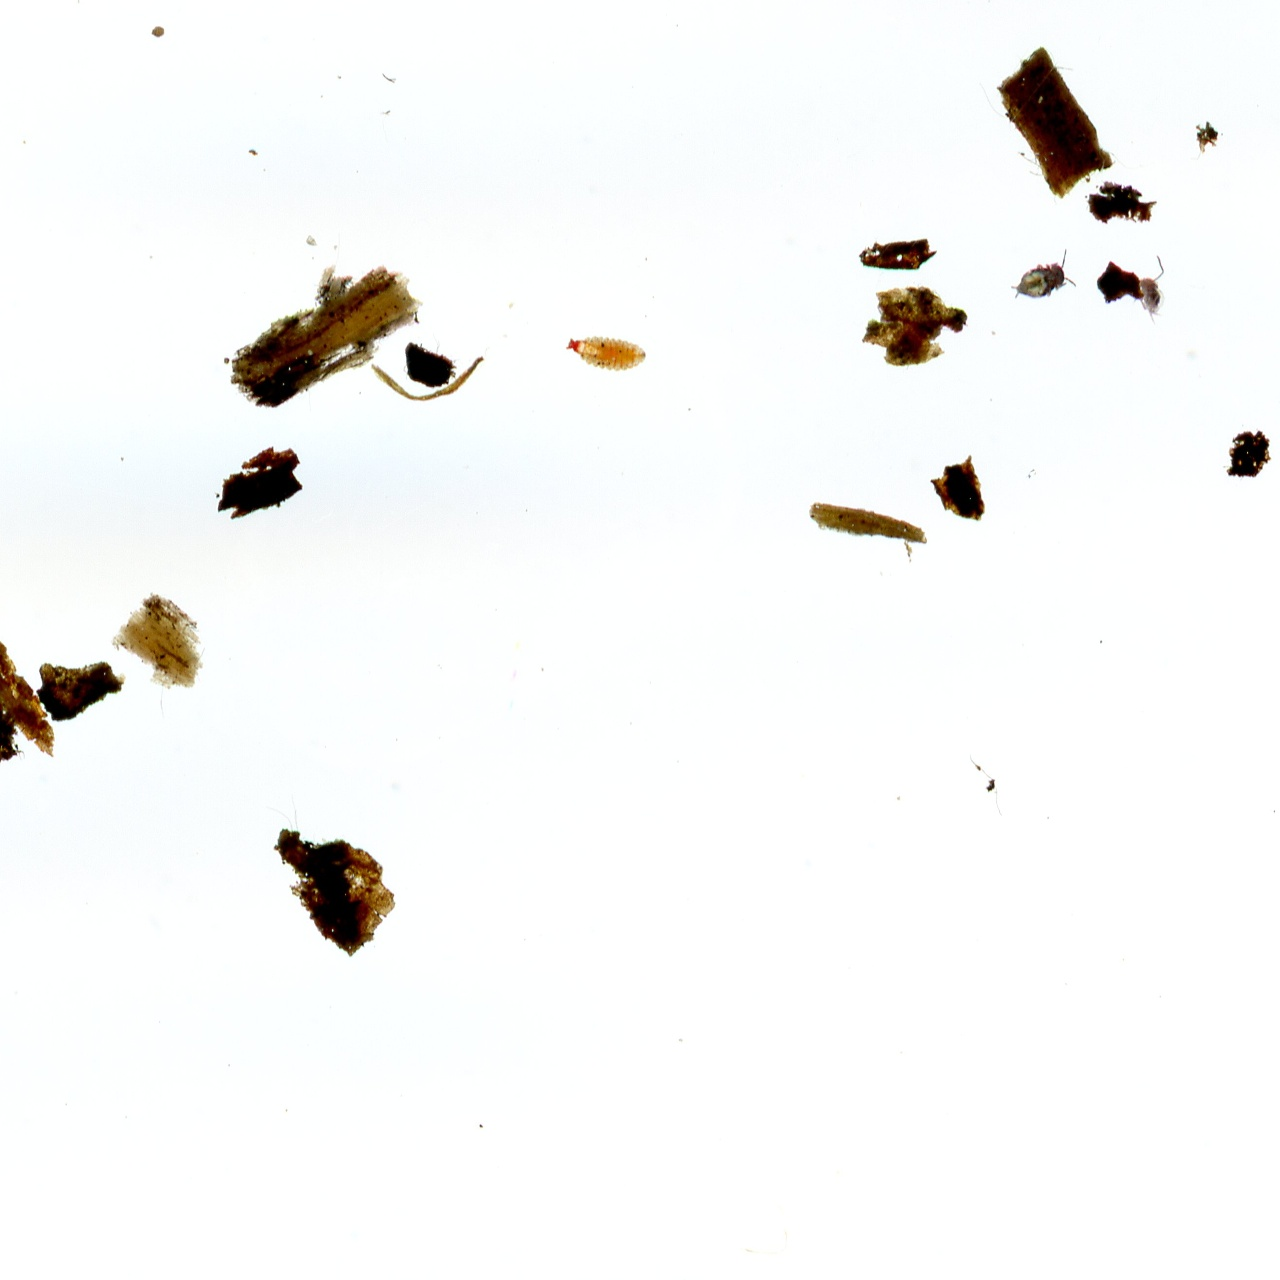arthropod: (1001, 244, 1084, 313), (565, 333, 648, 374), (1132, 253, 1167, 326)
